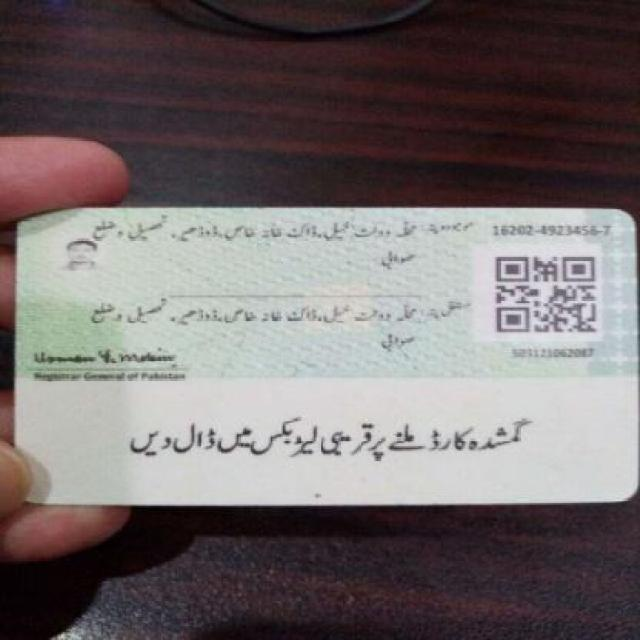Back: (11, 205, 634, 504)
